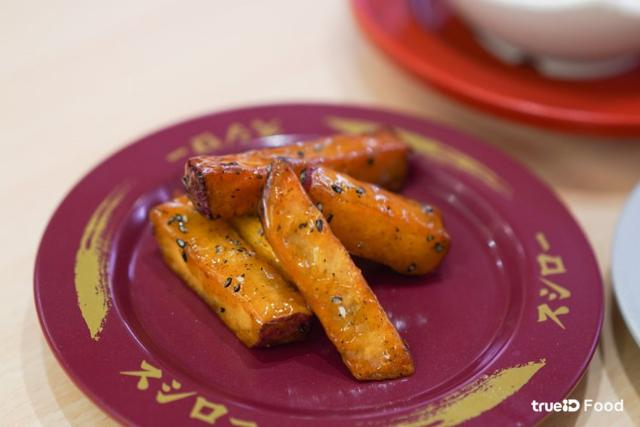janred: (0, 89, 569, 427), (337, 0, 640, 162)
janwhite: (621, 169, 640, 374)
